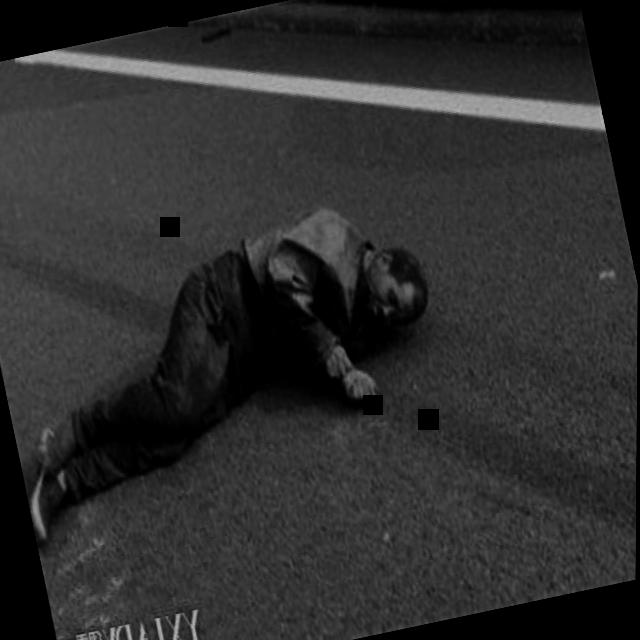Fall-Detected: (0, 176, 468, 551)
